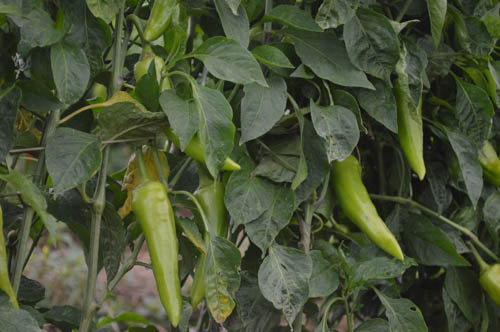ChiliPepper: (138, 55, 244, 172), (137, 179, 187, 326), (337, 156, 406, 260), (192, 182, 225, 318), (392, 78, 426, 181), (140, 2, 174, 45)
